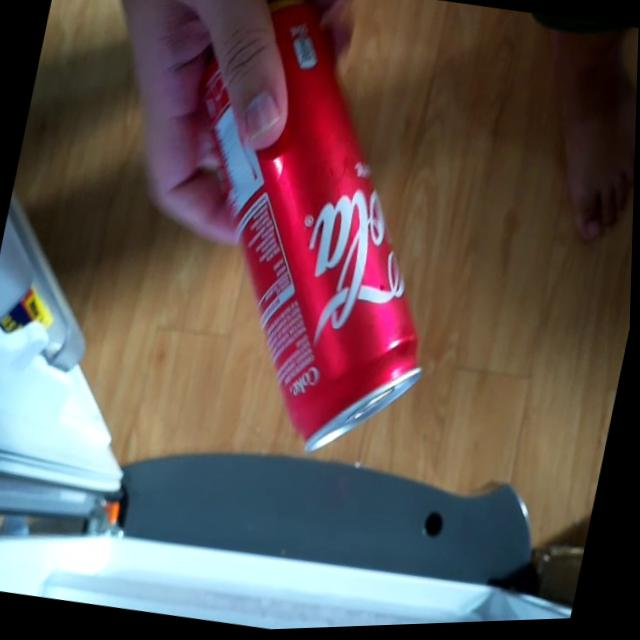coke: (133, 0, 496, 482)
